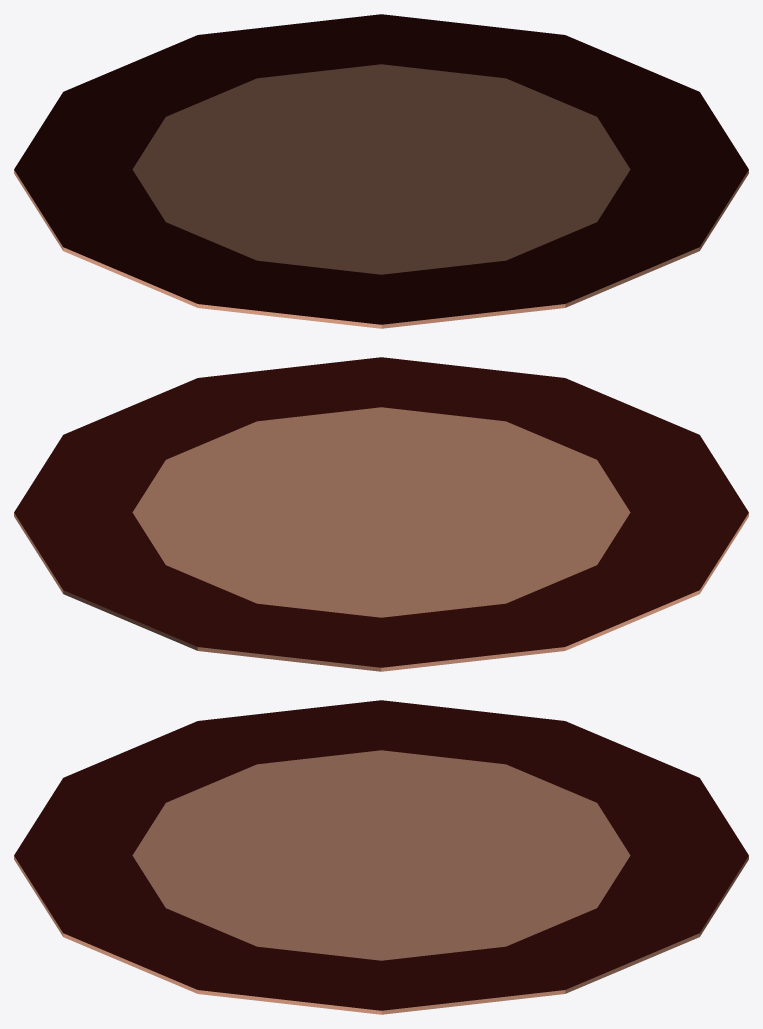
The model's file is Rug 2.fbx.
3 renders of one model, top to bottom at view 1: azimuth 30°, elevation 25°; view 2: azimuth 150°, elevation 25°; view 3: azimuth 270°, elevation 25°, orthographic.
Parts seen in each view (by area): view 1: Node 0; view 2: Node 0; view 3: Node 0.
Boxes of the visible parts, bbox=[...] form: Node 0: bbox=[14, 14, 748, 328]; Node 0: bbox=[14, 357, 748, 671]; Node 0: bbox=[14, 700, 748, 1014].
Bounding box in the file's own units: 2 × 0.0119 × 2.
